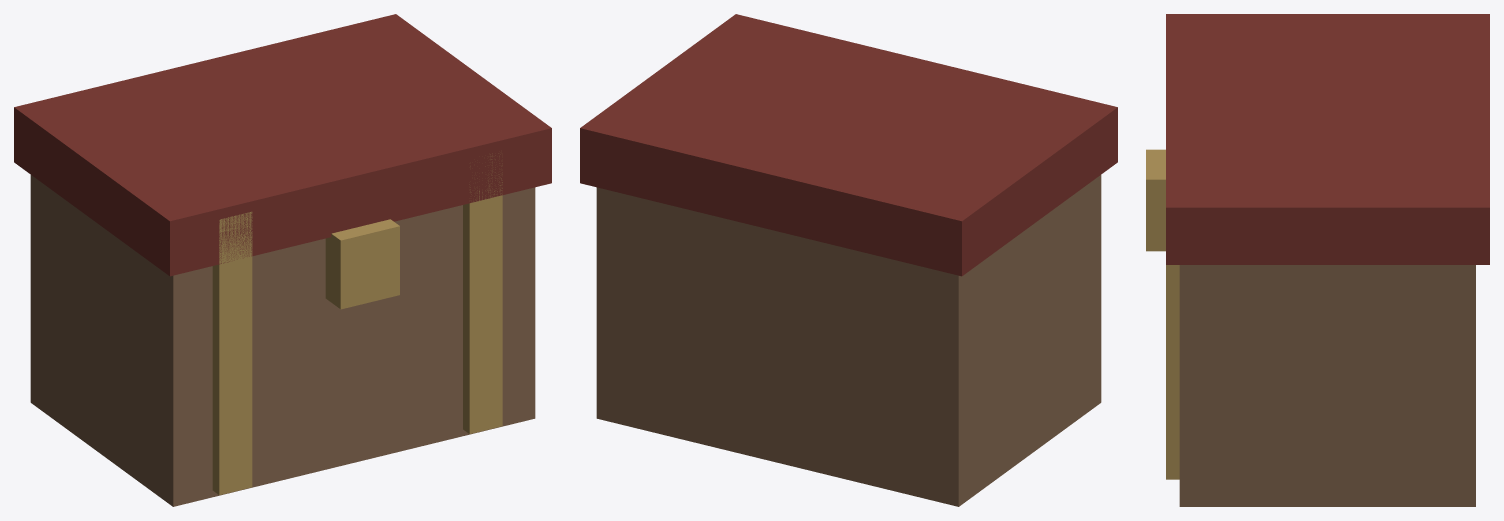
File: chest.glb
3 renders of one model, left to right at view 1: azimuth 30°, elevation 25°; view 2: azimuth 150°, elevation 25°; view 3: azimuth 270°, elevation 25°, orthographic. The views are drawn at different scales.
Parts seen in each view (by area): view 1: chest; view 2: chest; view 3: chest.
Boxes of the visible parts, x1,y1,x2,y2 form: chest: [14, 14, 551, 506]; chest: [580, 14, 1117, 506]; chest: [1146, 14, 1489, 506].
Bounding box in the file's own units: 1.16 × 0.85 × 0.87.
